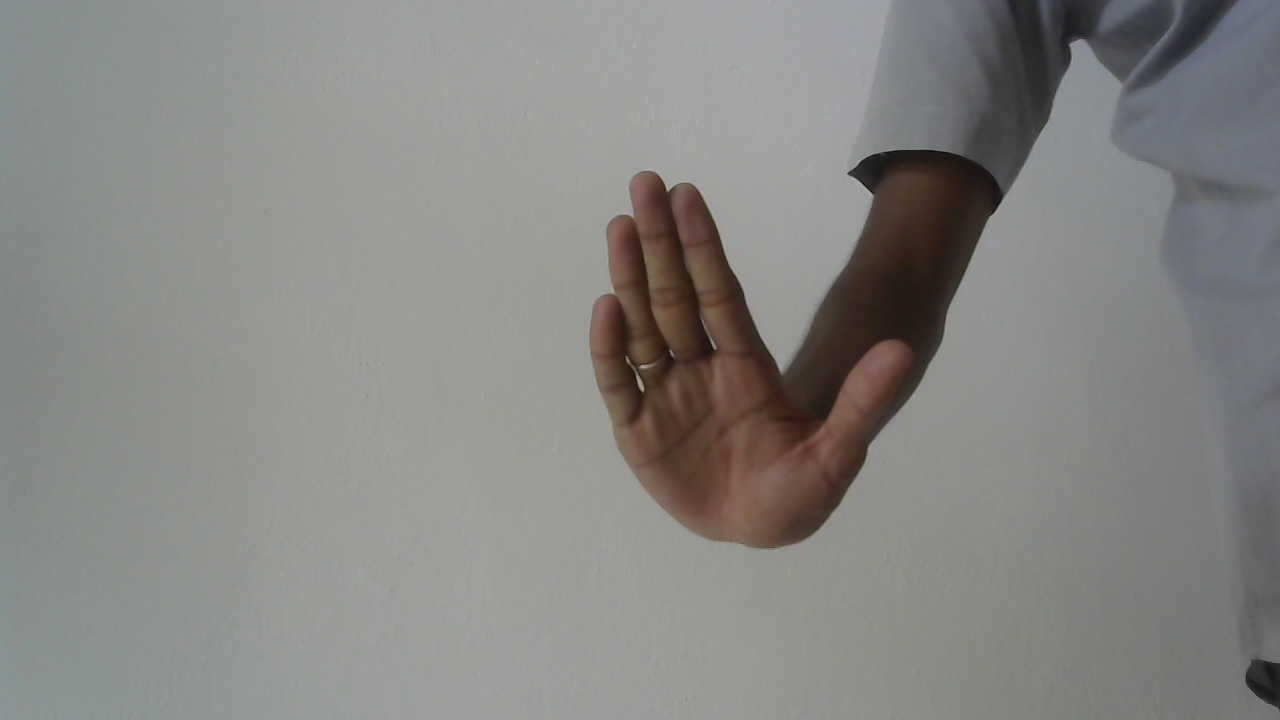hello: (576, 165, 930, 564)
